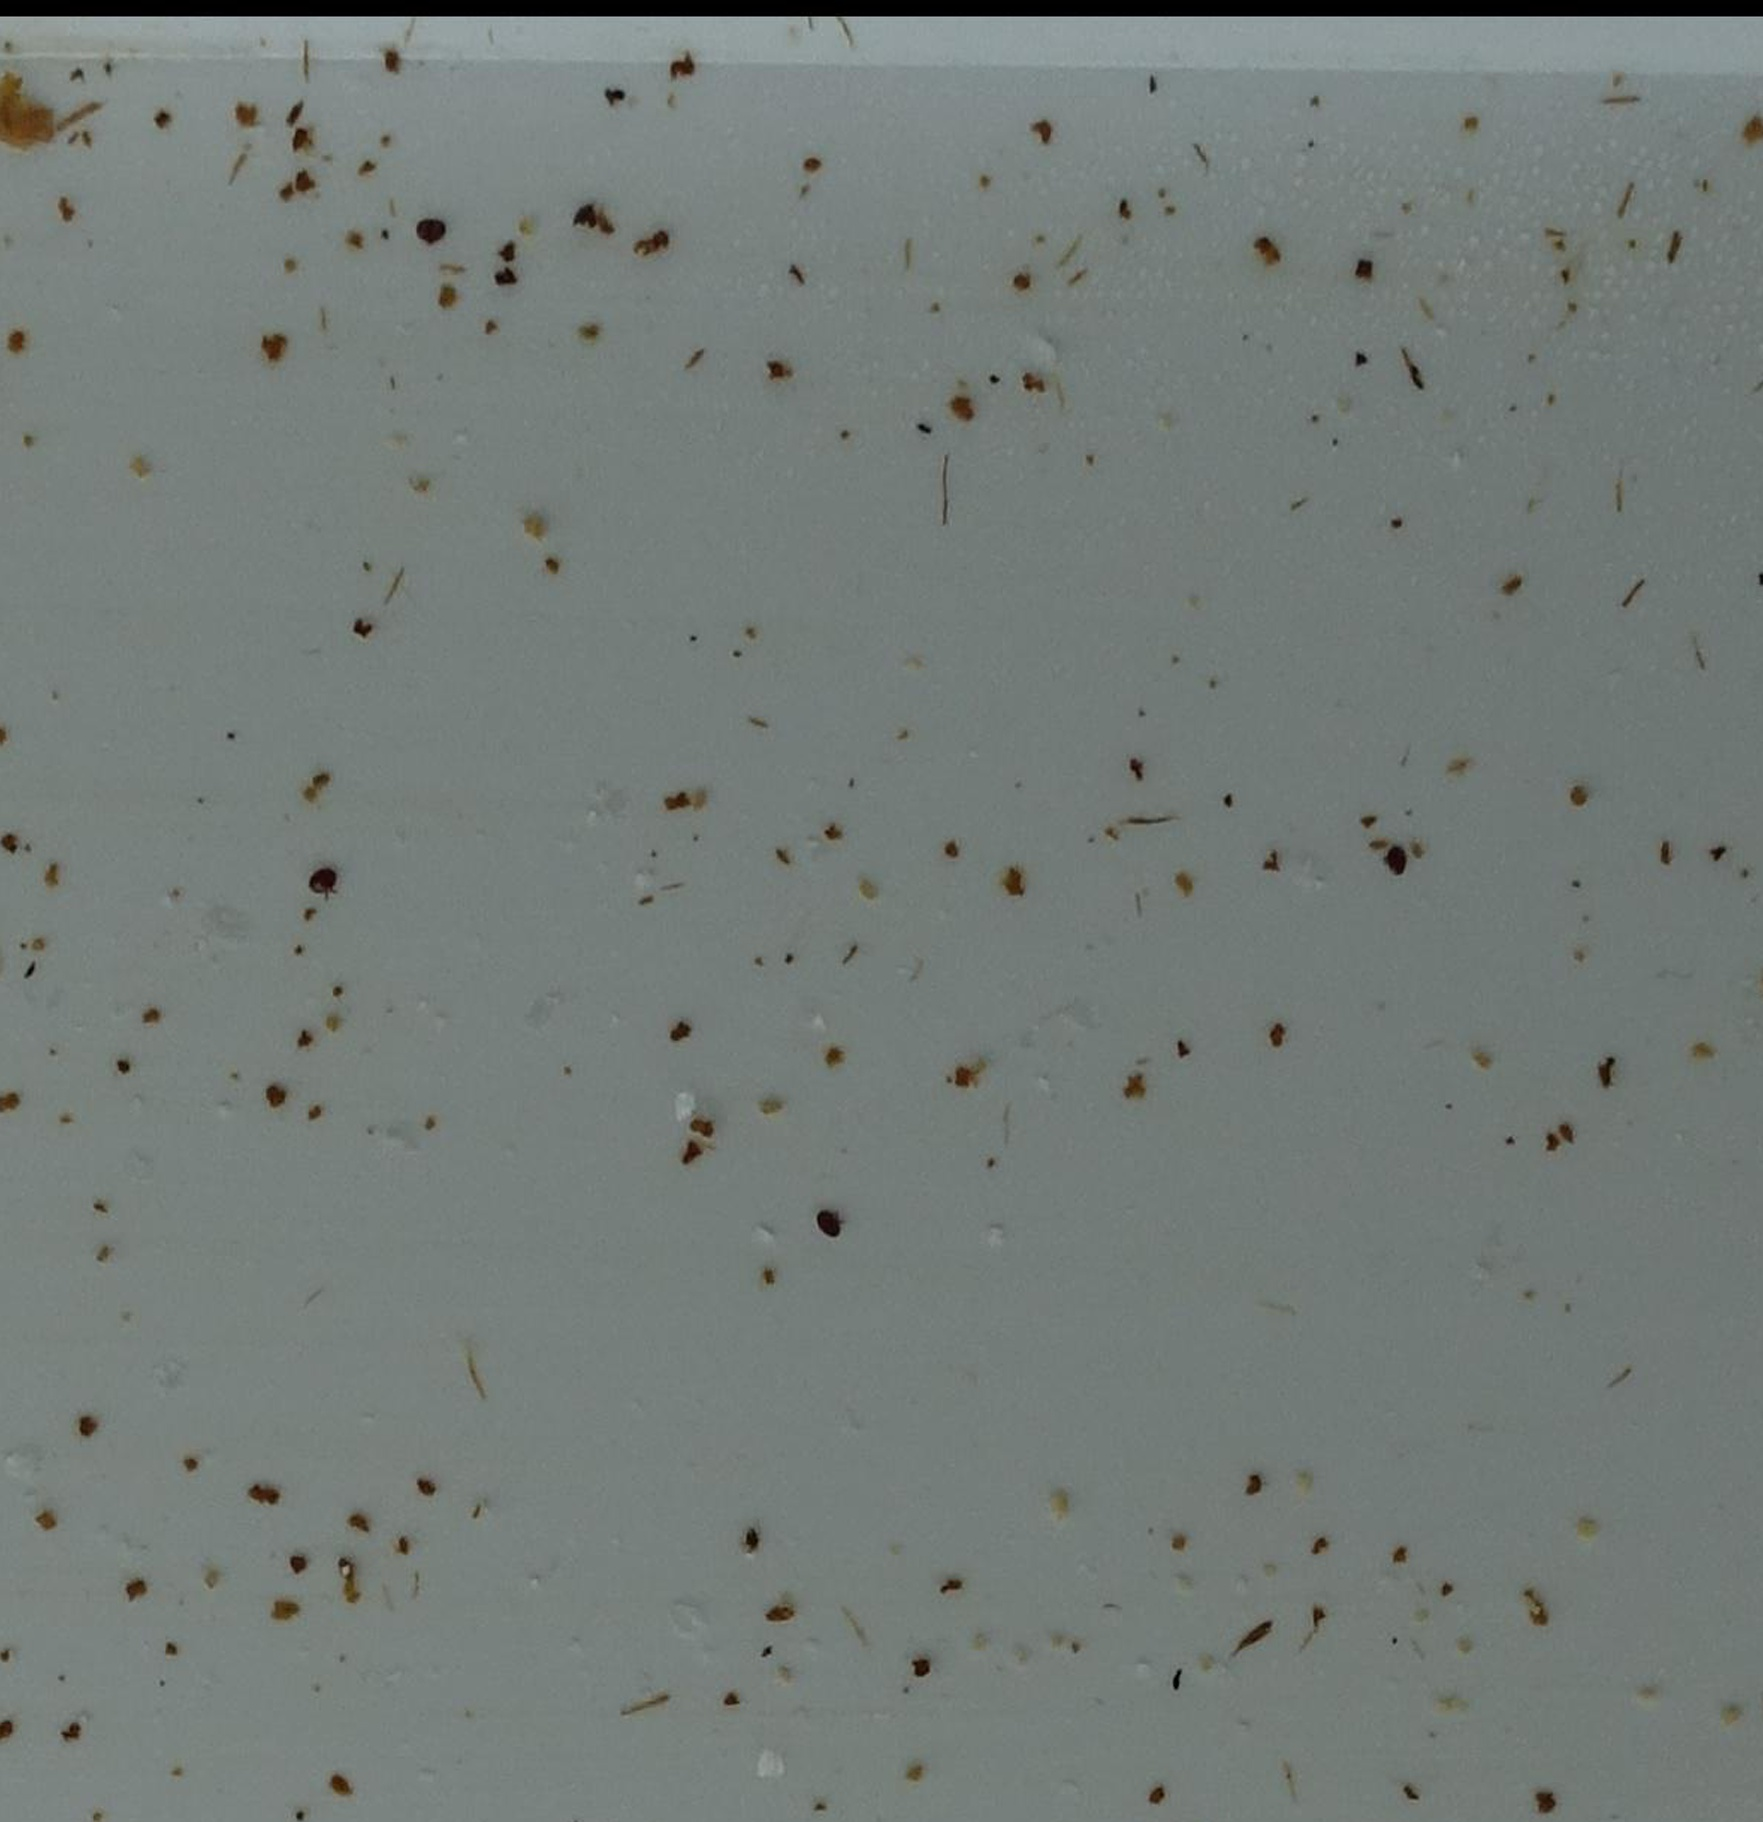Varroa: (812, 1207, 849, 1248), (1382, 841, 1418, 877), (306, 862, 337, 896), (420, 216, 451, 247)
